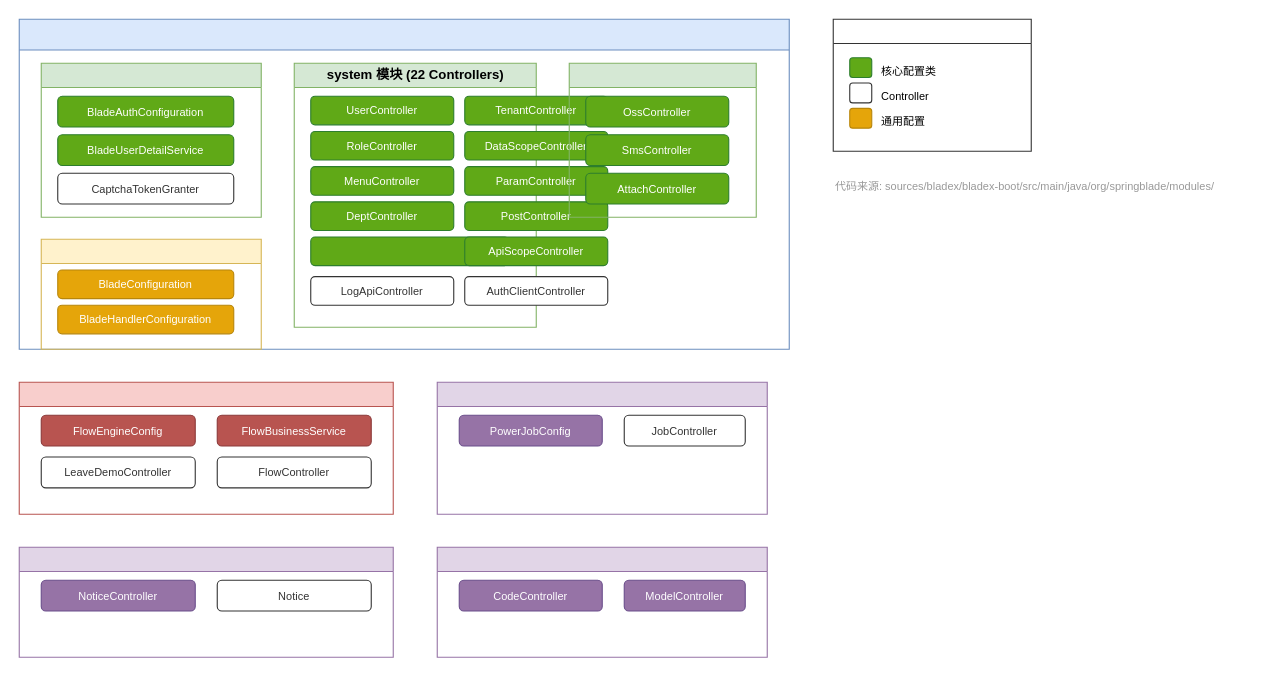
This 1271x677 diagram has some shape labels left out. The shapes that lost their labels are listed below. From the top down, each one's box as (x1, y1, x2, y2) in pixels, then its label:
(832, 18, 1031, 151): 图例
(40, 62, 261, 217): auth 模块
(568, 62, 756, 217): resource 模块
(18, 18, 789, 349): 业务模块 (bladex-boot/src/main/java/org/springblade/modules)
(310, 236, 509, 266): DictController / DictBizController
(40, 238, 261, 349): common 模块 (通用配置)
(18, 381, 393, 514): flow 模块 (Flowable)
(436, 381, 767, 514): job 模块 (PowerJob)
(18, 546, 393, 657): desk 模块 (仪表盘)
(436, 546, 767, 657): develop 模块 (代码生成)
